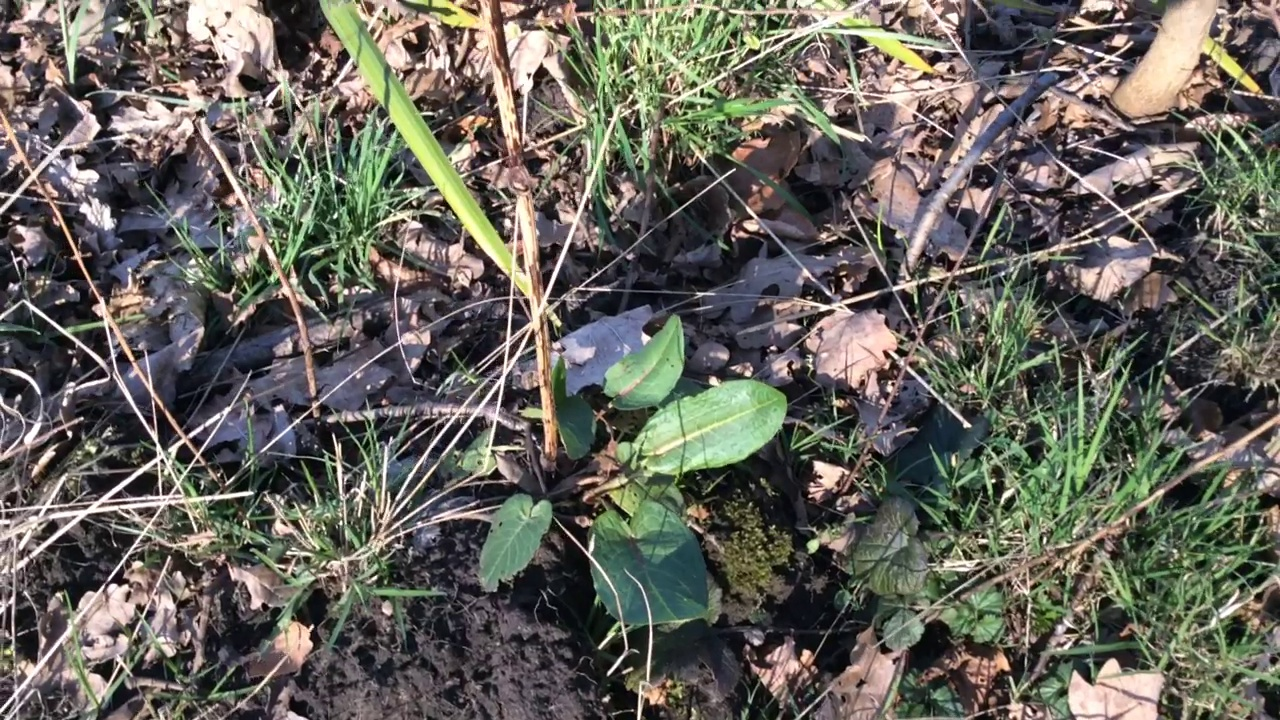rumex: (463, 312, 786, 622)
